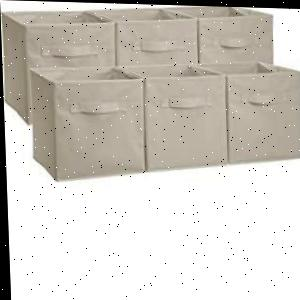cube: (26, 62, 148, 190), (121, 60, 232, 175), (206, 58, 300, 165)
